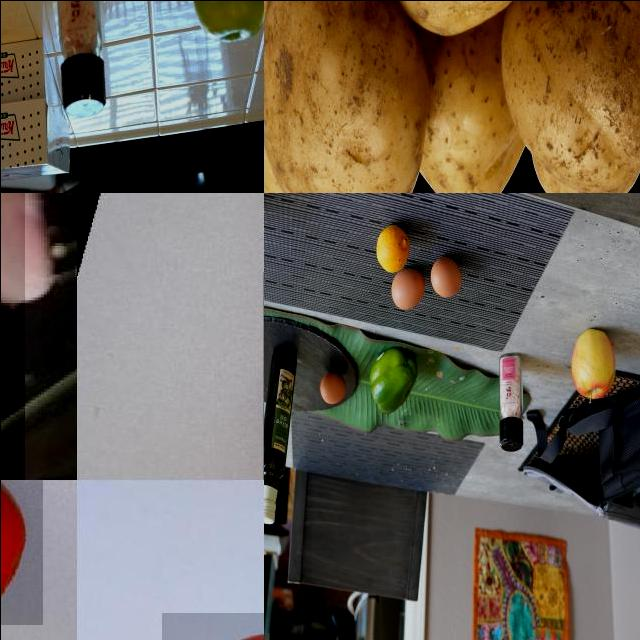bell_pepper: (365, 340, 419, 416)
egg: (390, 268, 426, 314), (428, 254, 460, 300), (319, 367, 347, 411)
potato: (264, 1, 446, 193), (502, 1, 640, 193), (399, 20, 531, 193)
tomato: (1, 480, 43, 625)
